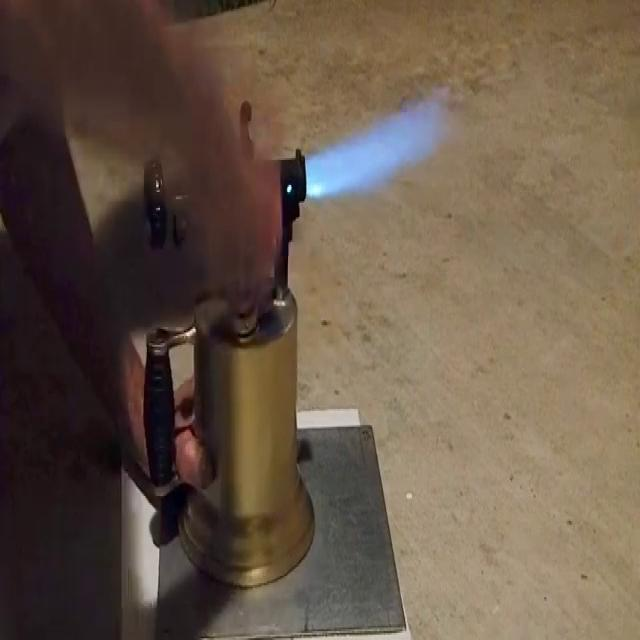fire: (298, 84, 482, 205)
